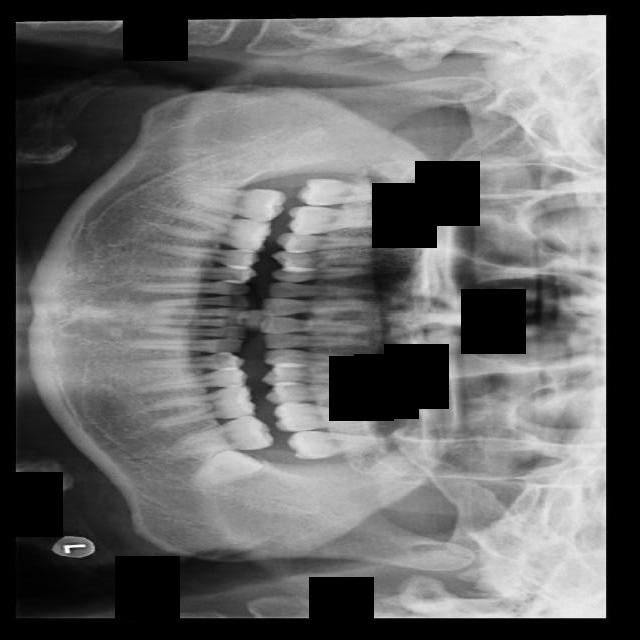BioHorizons Implant: (286, 431, 394, 459)
Biomet 3i Implant: (187, 439, 265, 493)
Blue Sky Bio Implant: (179, 414, 274, 455)
Caries: (295, 178, 399, 206)
Implant: (188, 185, 286, 223)
